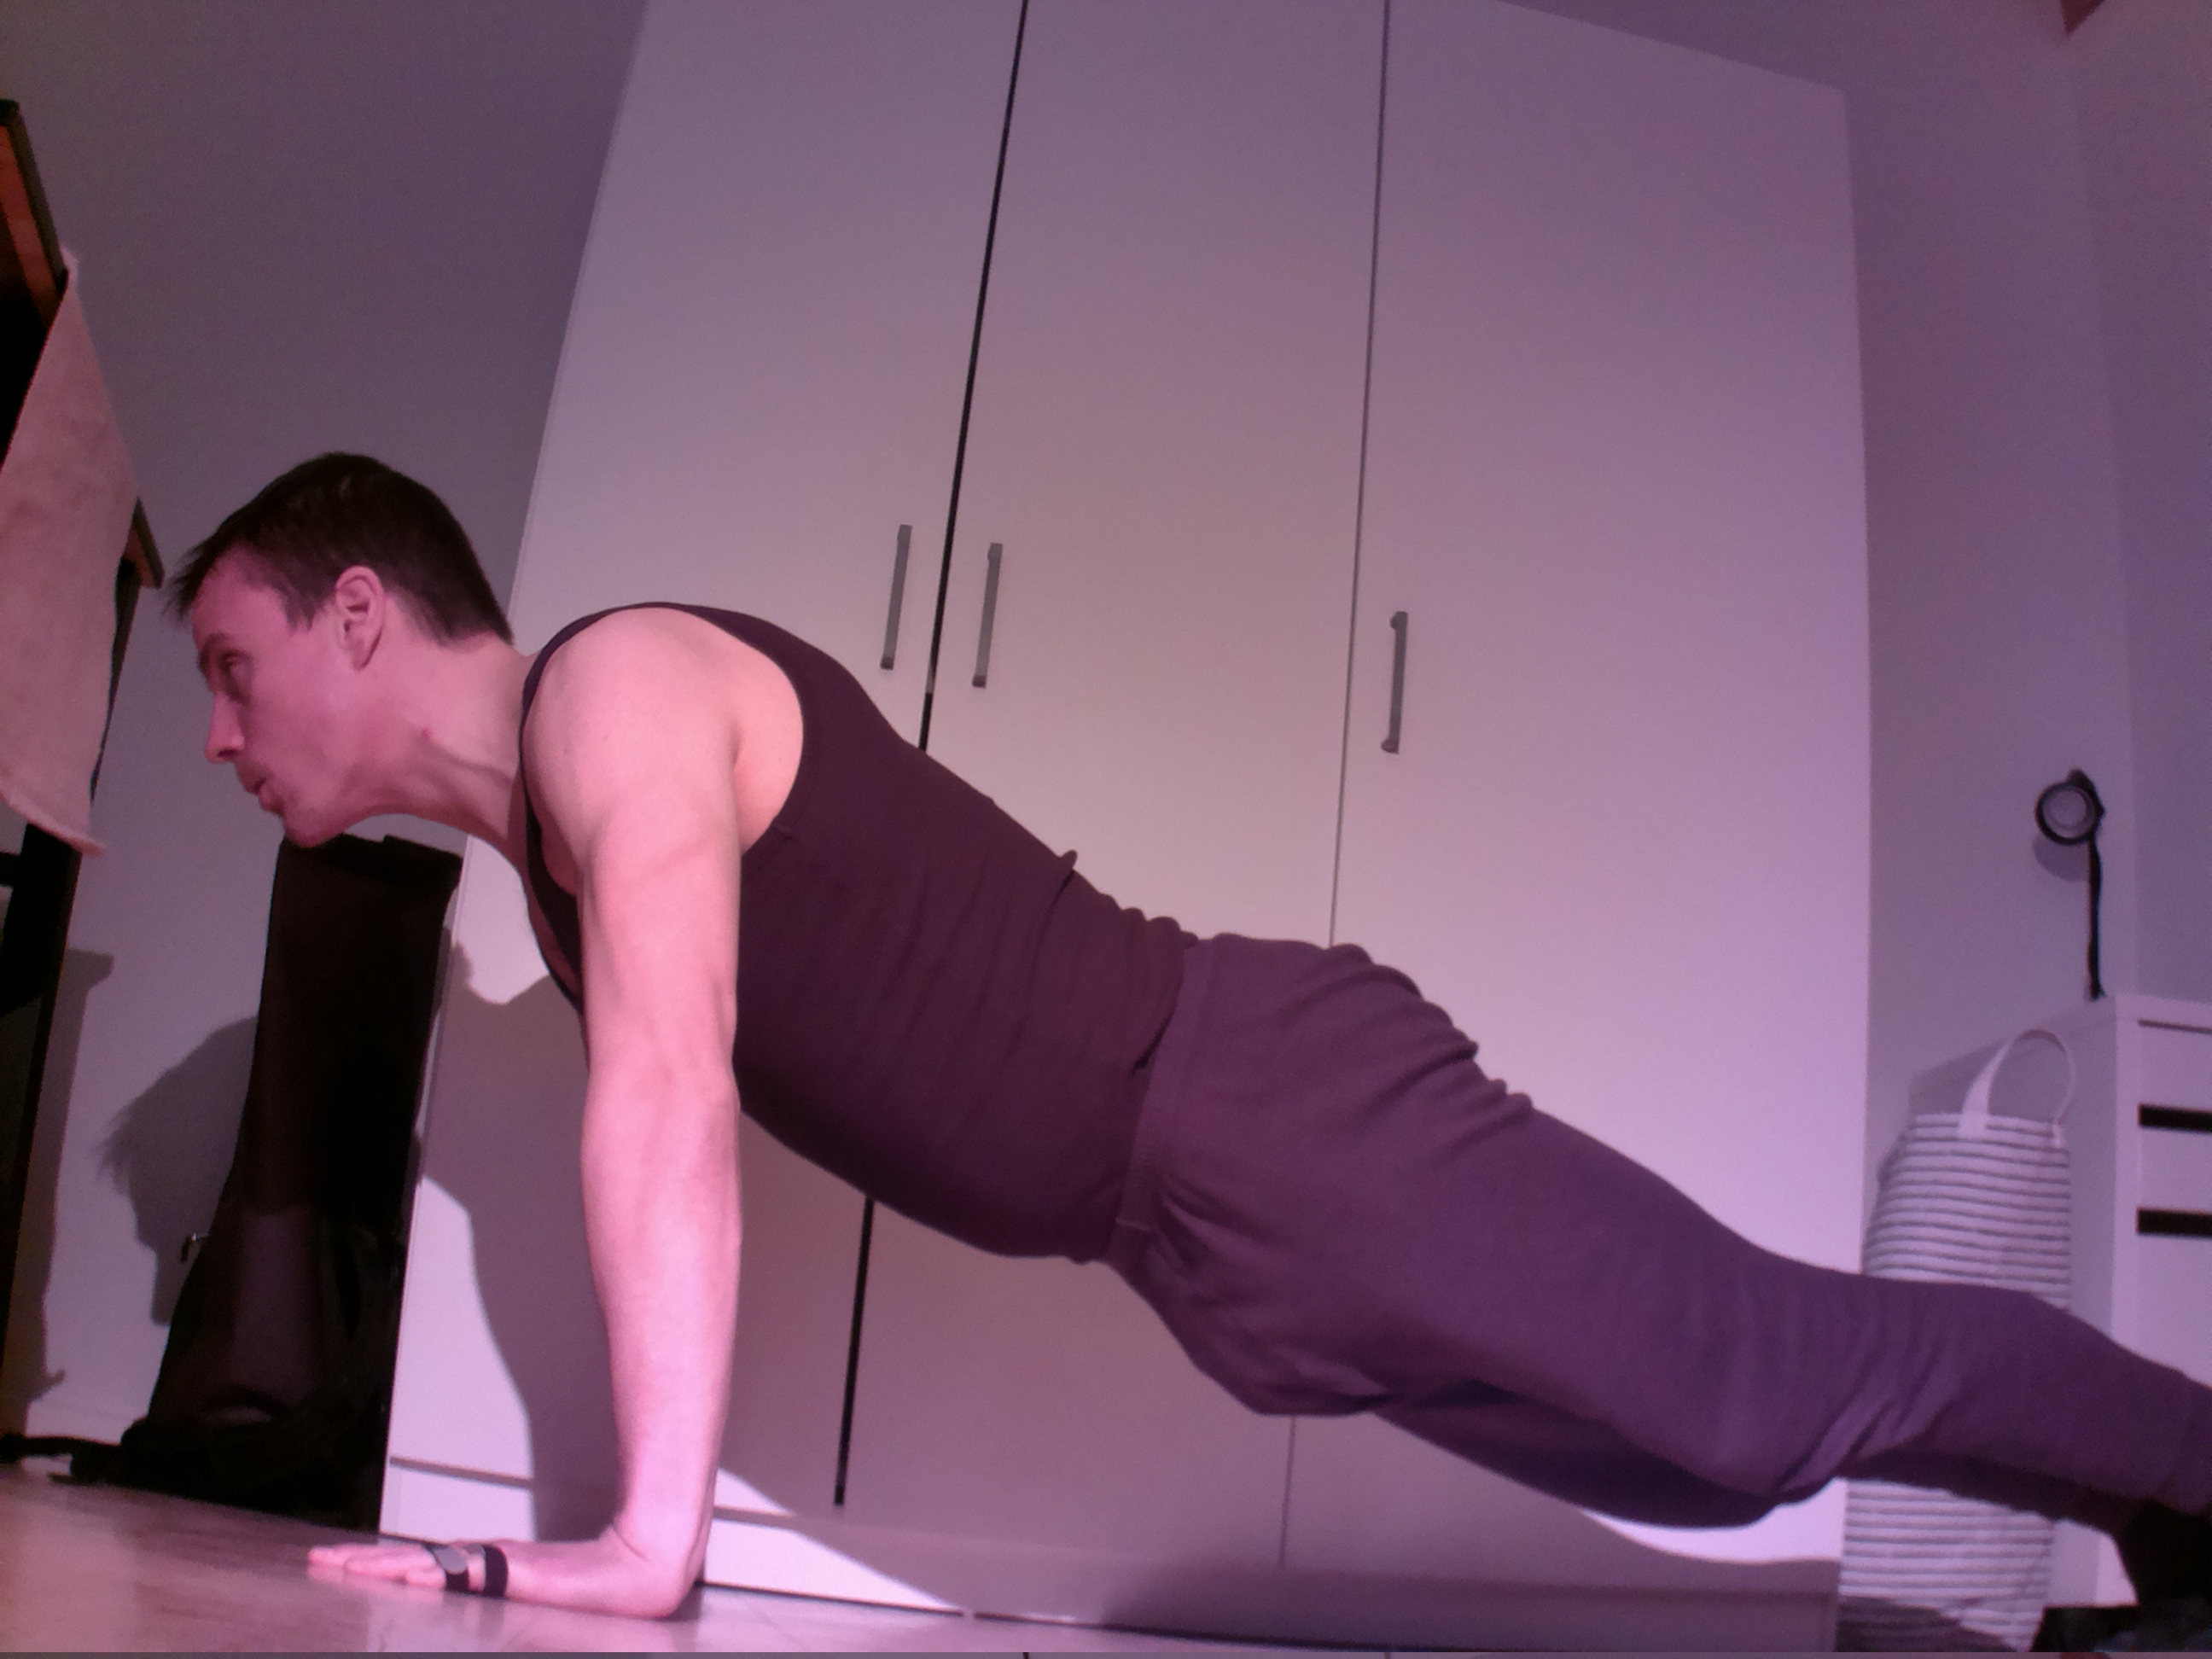CONAN: (145, 436, 1372, 1628)
